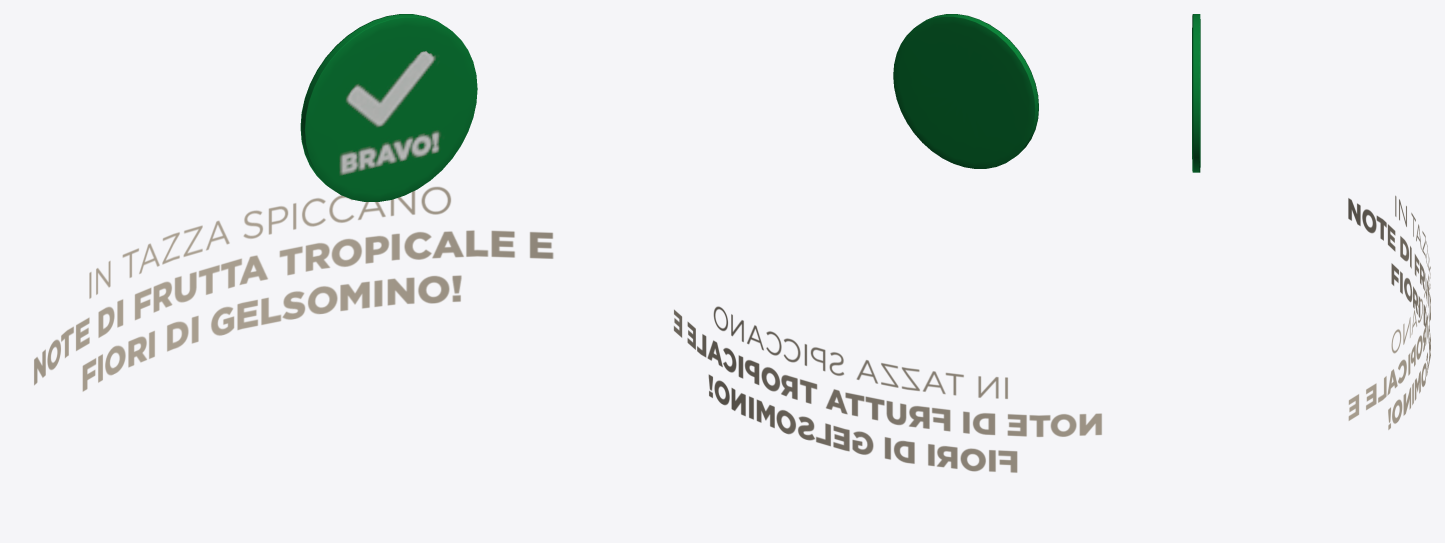
The model's file is Colombia_Correct.glb.
3 views of the same model, side by side, from view 1: azimuth 30°, elevation 25°; view 2: azimuth 150°, elevation 25°; view 3: azimuth 270°, elevation 25° (orthographic). The views are drawn at different scales.
Visible parts, largest first — view 1: bravo_coin_low, colombia_text; view 2: bravo_coin_low, colombia_text; view 3: colombia_text, bravo_coin_low.
Part boxes in pixels (x1=…): bravo_coin_low: x1=300, y1=14, x2=477, y2=201; colombia_text: x1=34, y1=186, x2=553, y2=391; bravo_coin_low: x1=893, y1=14, x2=1038, y2=168; colombia_text: x1=673, y1=306, x2=1101, y2=472; colombia_text: x1=1348, y1=195, x2=1430, y2=429; bravo_coin_low: x1=1192, y1=14, x2=1200, y2=172.
Size of the model in its own units: 1.53 by 1.15 by 0.6434.
Materials: 2 (2 with a texture image).
